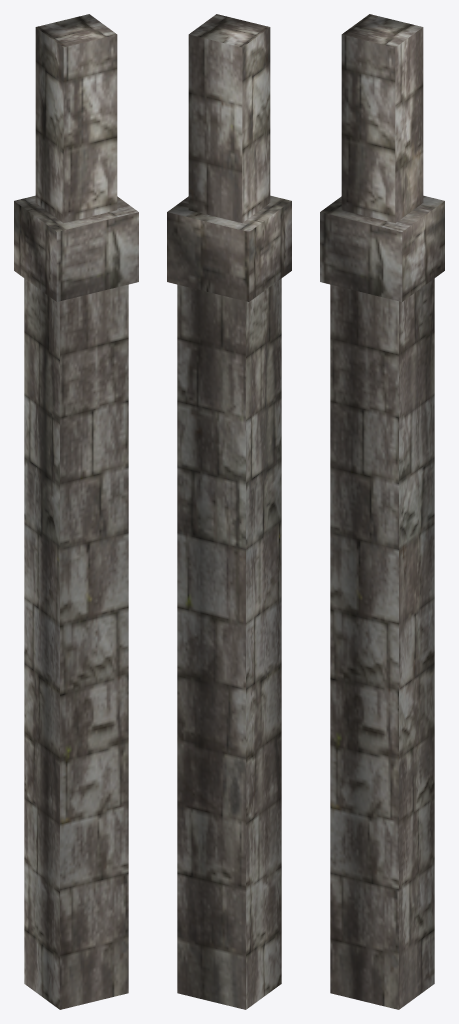
The model's file is support2.glb.
3 renders of one model, left to right at view 1: azimuth 30°, elevation 25°; view 2: azimuth 150°, elevation 25°; view 3: azimuth 330°, elevation 25°, orthographic.
Visible parts, largest first — view 1: support2; view 2: support2; view 3: support2.
Part boxes in pixels (x1=…): support2: x1=14, y1=14, x2=138, y2=1009; support2: x1=167, y1=14, x2=291, y2=1009; support2: x1=320, y1=14, x2=444, y2=1009.
Bounding box in the file's own units: 0.7353 × 8.2 × 0.6628.
Materials: 1 (1 with a texture image).
